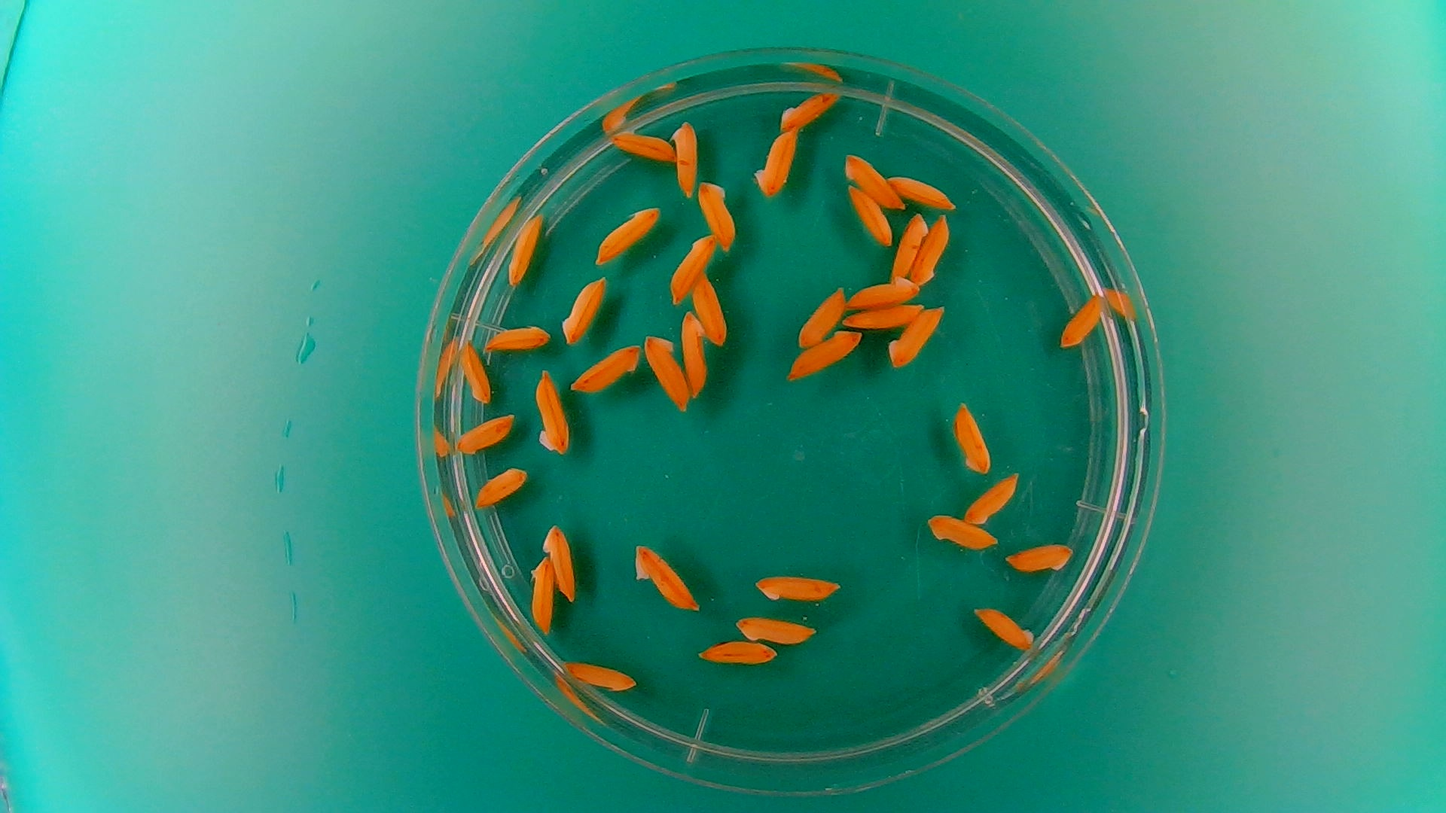no: (630, 539, 700, 614), (786, 327, 865, 382), (593, 204, 660, 265), (886, 304, 947, 370), (642, 329, 688, 413), (842, 149, 905, 210), (569, 343, 642, 394), (559, 273, 609, 347), (749, 568, 844, 606), (752, 125, 801, 198), (533, 366, 572, 457), (667, 232, 716, 304), (962, 470, 1023, 527), (950, 397, 993, 476), (796, 284, 847, 350), (558, 656, 639, 696), (970, 603, 1036, 652), (505, 211, 546, 288), (695, 178, 737, 252), (732, 611, 819, 646), (453, 408, 517, 455), (911, 212, 952, 285), (542, 520, 578, 603), (924, 512, 1000, 551), (691, 269, 729, 347), (845, 183, 892, 246), (885, 172, 958, 211), (472, 463, 530, 510), (694, 637, 779, 669), (669, 117, 701, 202), (845, 273, 922, 308), (892, 211, 930, 281), (777, 89, 840, 131), (679, 308, 708, 398), (1059, 294, 1104, 349), (1003, 540, 1075, 574), (481, 321, 552, 355), (528, 552, 556, 637), (609, 128, 676, 163), (842, 302, 925, 330), (459, 338, 493, 404)
